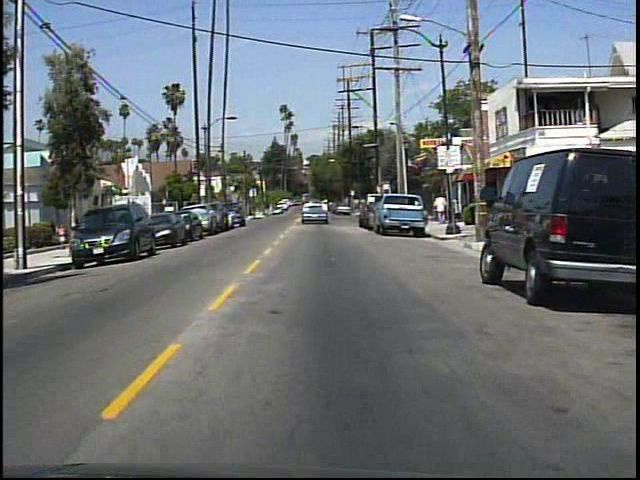person: (432, 191, 450, 228), (58, 222, 75, 251)
